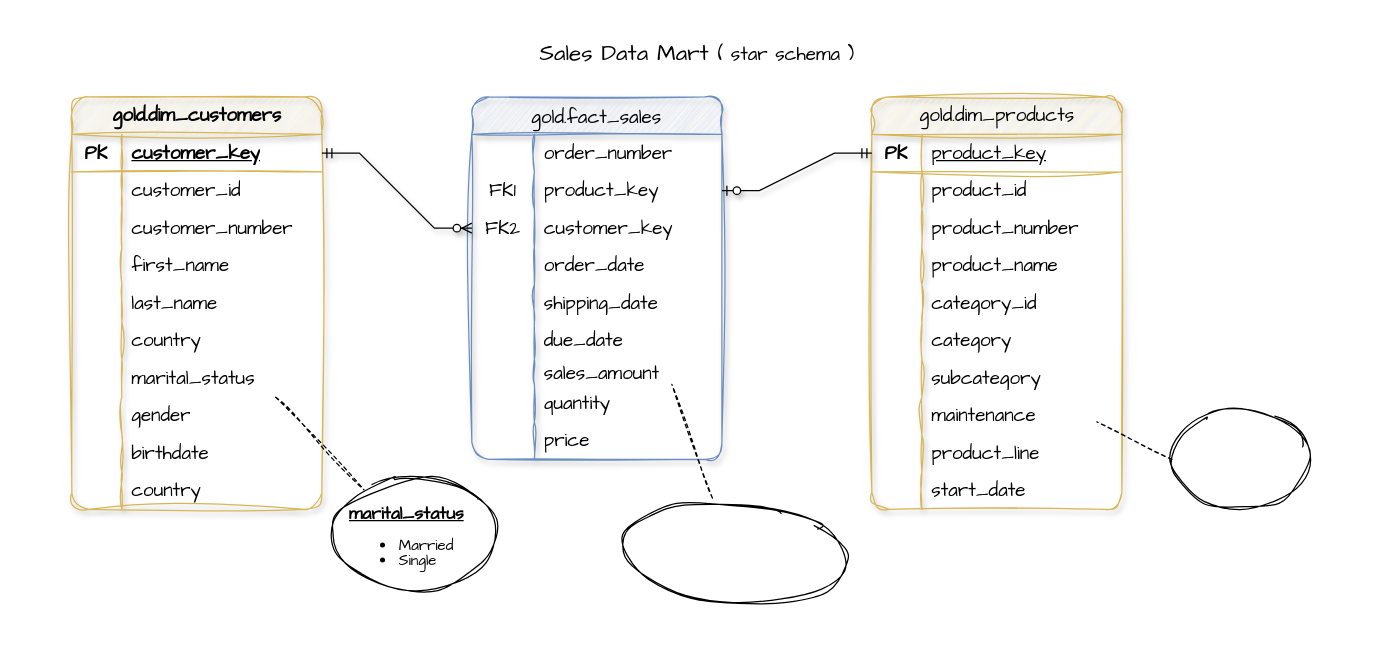
Some shapes in this 1393 by 655 pixel diagram are drawn without their labels. The shapes that lost their labels are listed below. From the top down, each one's centre as x and y in pixels, then its label:
At pixel 1240 458: "Maintenance Yes No".
At pixel 734 552: "Sales Calculation Sales = Quantity * price".
